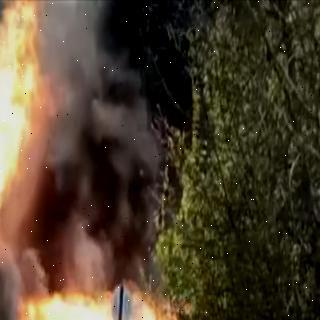smoke: (0, 10, 241, 301)
